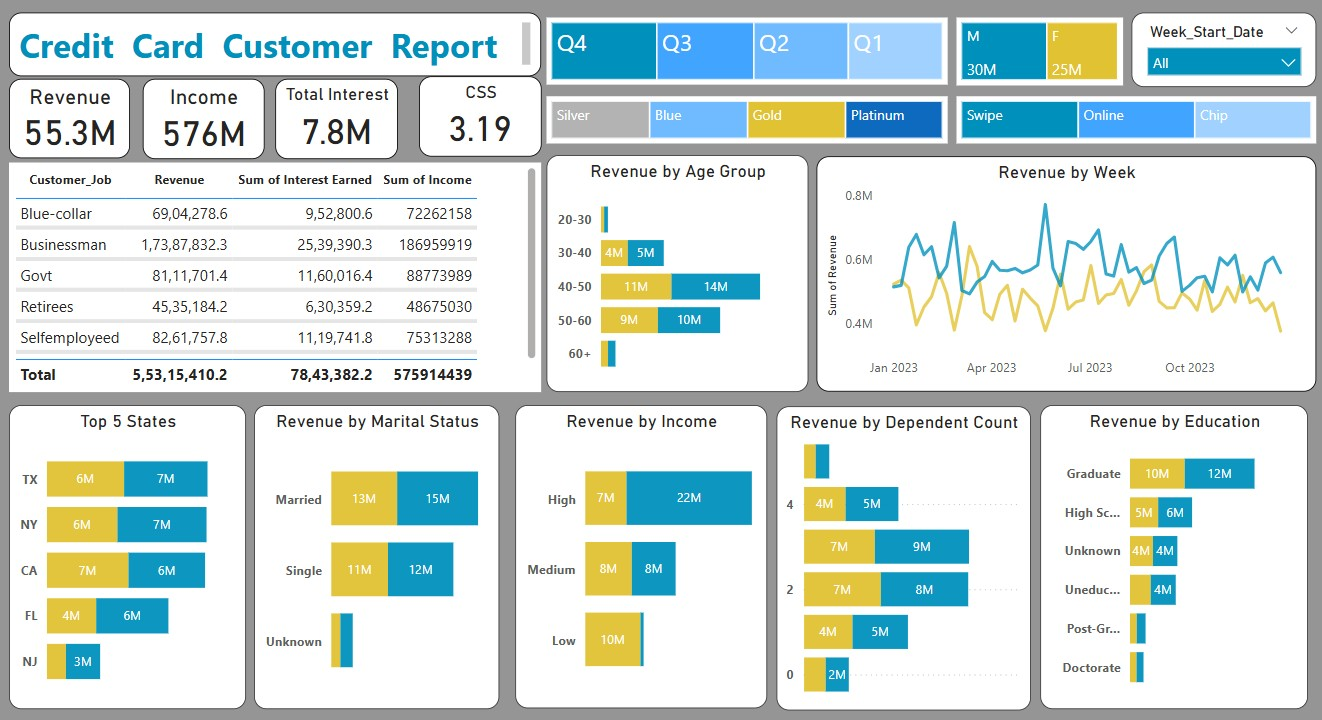

Layout of this report page (visuals, bound fields, positions):
{"tool":"powerbi","page":{"name":"CC Customer","canvas":[1280,720],"ordinal":2},"visuals":[{"type":"textbox","box":[9.7,36.3,513.8,61.7],"z":0},{"type":"barChart","title":"Revenue by Income","fields":{"Y":["Sum(cc_detail.Revenue)"],"Category":["cust_detail.IncomeGroup"],"Series":["cust_detail.Gender"]},"box":[498.1,414.7,243,292.6],"z":1000},{"type":"tableEx","fields":{"Values":["cust_detail.Customer_Job","Sum(cc_detail.Revenue)","Sum(cc_detail.Interest_Earned)","Sum(cust_detail.Income)"]},"box":[9.7,181.3,513.8,221.2],"z":2000},{"type":"card","title":"Revenue","fields":{"Values":["Sum(cc_detail.Revenue)"]},"box":[9.7,100.3,117,77],"z":3000},{"type":"card","title":"Income","fields":{"Values":["Sum(cust_detail.Income)"]},"box":[139,100.3,117.3,77.4],"z":4000},{"type":"card","title":"Total Interest","fields":{"Values":["Sum(cc_detail.Interest_Earned)"]},"box":[267.2,100.3,118.5,77.4],"z":5000},{"type":"card","title":"CSS","fields":{"Values":["Avg(cust_detail.Cust_Satisfaction_Score)"]},"box":[405,97.9,118.5,77.4],"z":6000},{"type":"slicer","fields":{"Values":["cc_detail.Week_Start_Date"]},"box":[1093,36.2,178.6,72.4],"z":7000},{"type":"treemap","fields":{"Values":["Avg(cc_detail.Client_Num)"],"Group":["cc_detail.QtrFormatted"]},"box":[528.4,41,387.3,65.1],"z":8000},{"type":"treemap","fields":{"Values":["Avg(cc_detail.Client_Num)"],"Group":["cc_detail.Card_Category"]},"box":[528.4,117,387.3,45.8],"z":10000},{"type":"treemap","fields":{"Values":["Avg(cc_detail.Client_Num)"],"Group":["cc_detail.Use_Chip"]},"box":[924.1,117,347.5,45.8],"z":11000},{"type":"lineChart","title":"Revenue by Week","fields":{"Series":["cust_detail.Gender"],"Y":["Sum(cc_detail.Revenue)"],"Category":["cc_detail.Week_Start_Date.Variation.Date Hierarchy.Year","cc_detail.Week_Start_Date.Variation.Date Hierarchy.Month","cc_detail.Week_Start_Date.Variation.Date Hierarchy.Day"]},"box":[789.4,175.3,482.4,227.3],"z":12000},{"type":"treemap","fields":{"Group":["cust_detail.Gender"],"Values":["Sum(cc_detail.Revenue)"]},"box":[923.6,41.1,160.8,65.3],"z":13000},{"type":"barChart","title":"Revenue by Age Group","fields":{"Y":["Sum(cc_detail.Revenue)"],"Category":["cust_detail.AgeGroup"],"Series":["cust_detail.Gender"]},"box":[528.3,174.1,252.7,228.5],"z":14000},{"type":"barChart","title":"Revenue by Dependent Count","fields":{"Y":["Sum(cc_detail.Revenue)"],"Category":["cust_detail.Dependent_Count"],"Series":["cust_detail.Gender"]},"box":[750.7,415.9,245.4,293.8],"z":15000},{"type":"barChart","title":"Revenue by Education","fields":{"Y":["Sum(cc_detail.Revenue)"],"Category":["cust_detail.Education_Level"],"Series":["cust_detail.Gender"]},"box":[1004.6,414.7,258.7,293.8],"z":16000},{"type":"barChart","title":"Top 5 States","fields":{"Y":["Sum(cc_detail.Revenue)"],"Category":["cust_detail.state_cd"],"Series":["cust_detail.Gender"]},"box":[9.7,414.7,228.5,293.8],"z":17000},{"type":"barChart","title":"Revenue by Marital Status ","fields":{"Y":["Sum(cc_detail.Revenue)"],"Category":["cust_detail.Marital_Status"],"Series":["cust_detail.Gender"]},"box":[246.6,414.7,236.9,293.8],"z":18000}]}

Visuals, with their boxes in screenshot pixels (x1, y1, x2, y2):
textbox: 13,13,538,76
"Revenue by Income" barChart: 512,400,761,699
tableEx - cust_detail.Customer_Job x Sum(cc_detail.Revenue): 13,161,538,387
"Revenue" card: 13,78,133,157
"Income" card: 145,78,265,157
"Total Interest" card: 276,78,398,157
"CSS" card: 417,76,538,155
slicer - cc_detail.Week_Start_Date: 1120,13,1303,87
treemap - Avg(cc_detail.Client_Num) x cc_detail.QtrFormatted: 543,18,939,84
treemap - Avg(cc_detail.Client_Num) x cc_detail.Card_Category: 543,95,939,142
treemap - Avg(cc_detail.Client_Num) x cc_detail.Use_Chip: 948,95,1303,142
"Revenue by Week" lineChart: 810,155,1303,387
treemap - cust_detail.Gender x Sum(cc_detail.Revenue): 947,18,1111,85
"Revenue by Age Group" barChart: 543,154,801,387
"Revenue by Dependent Count" barChart: 770,401,1021,701
"Revenue by Education" barChart: 1030,400,1294,700
"Top 5 States" barChart: 13,400,247,700
"Revenue by Marital Status " barChart: 255,400,497,700
